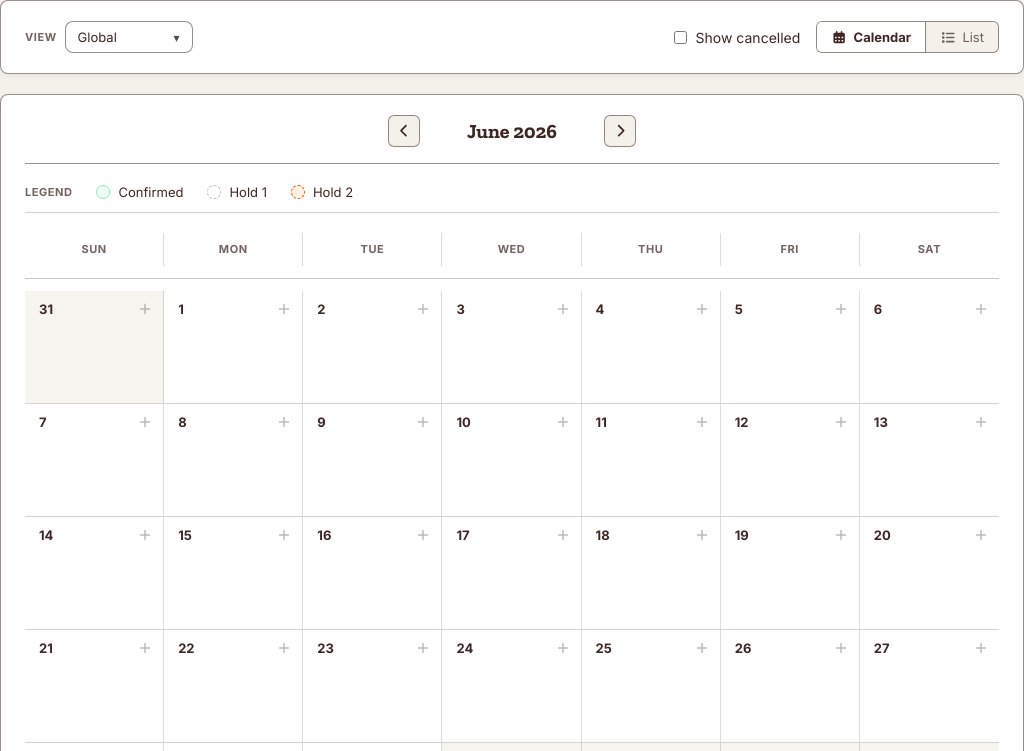
Test: BookingCalendarPage › switches to list view when list toggle is selected
Click the button with test id "booking-display-list": (962, 37) x1=925 y1=22 x2=998 y2=52
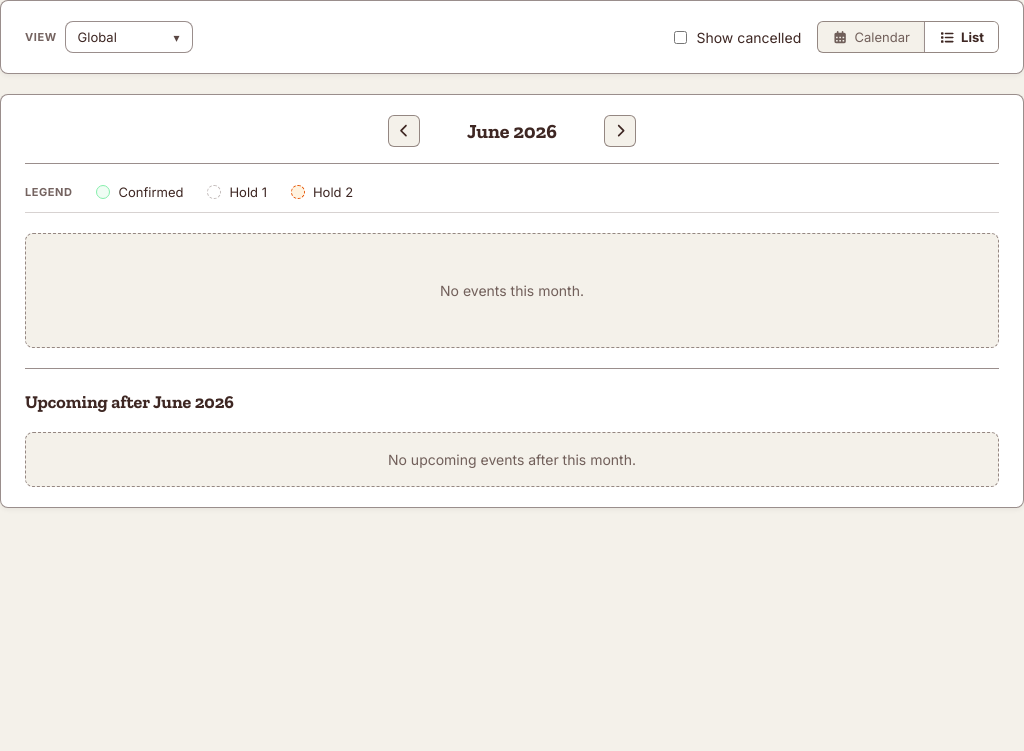
Now the element with test id "booking-calendar-list" is shown, box x1=25 y1=233 x2=999 y2=348
